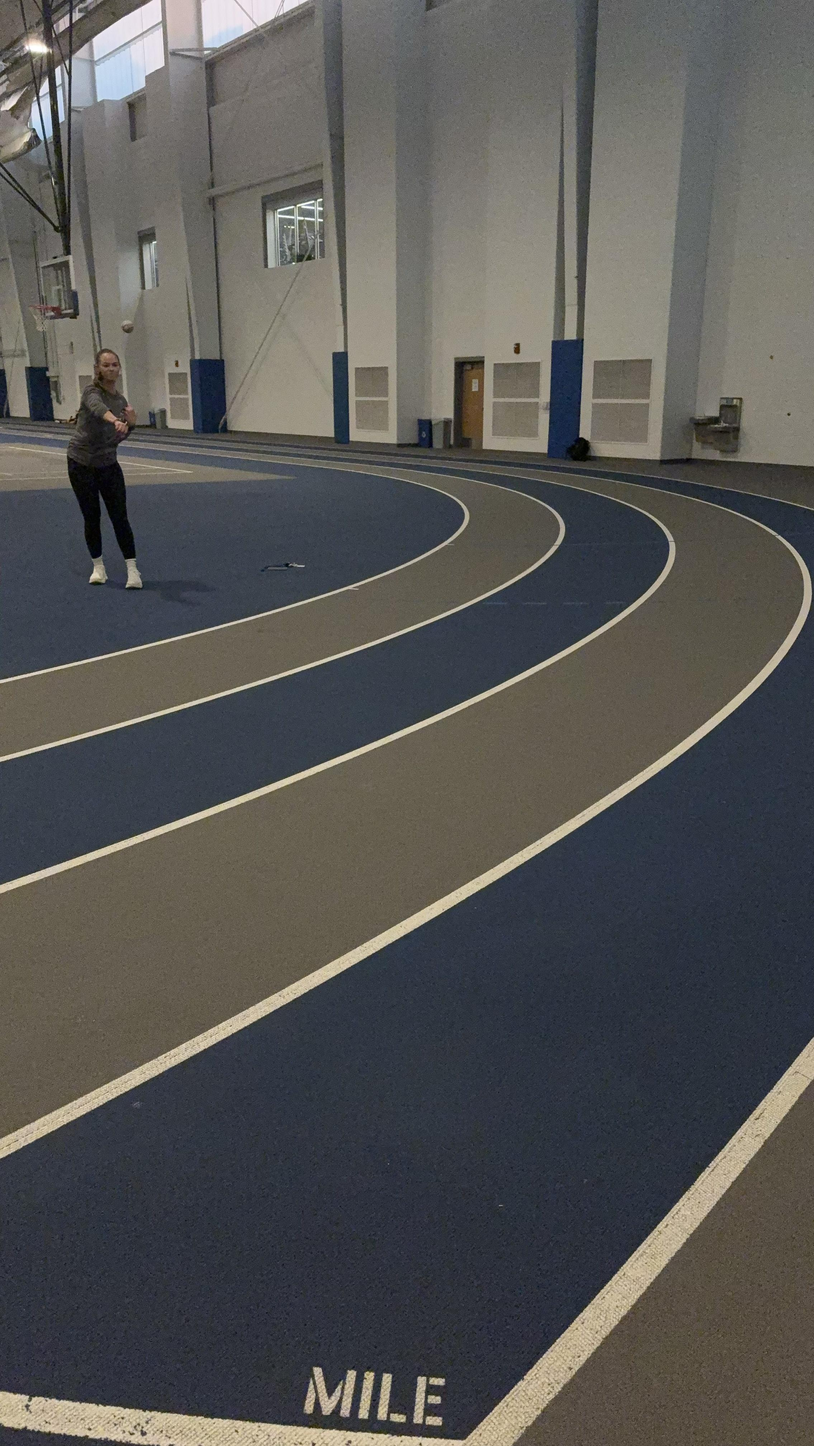Baseball: (118, 319, 137, 334)
